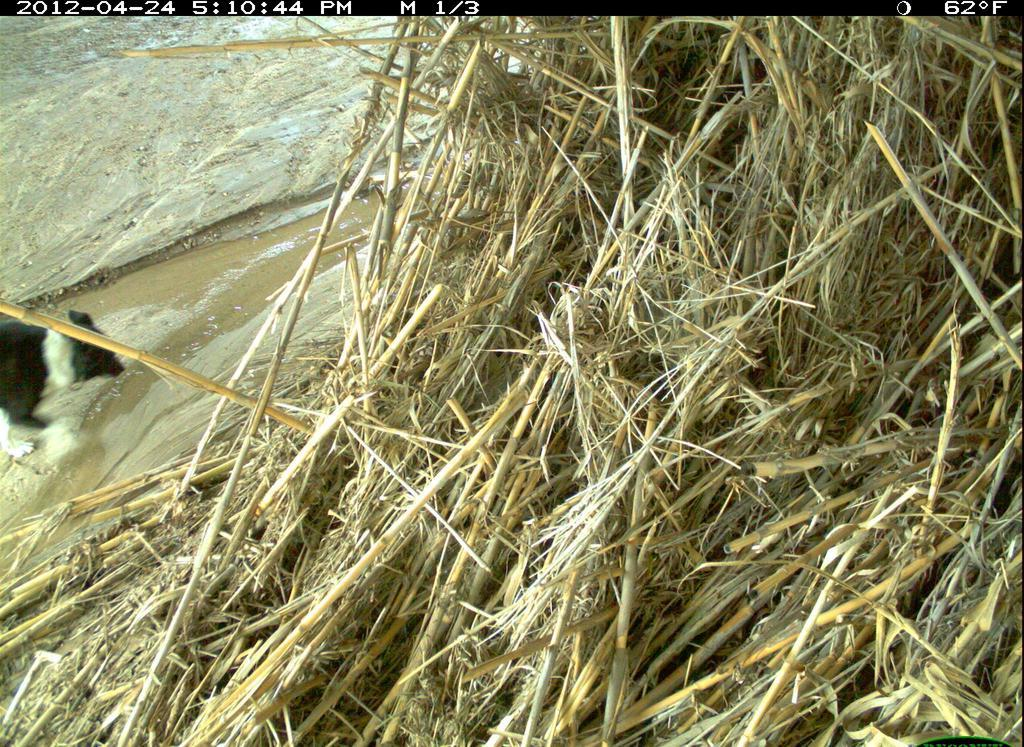dog: (2, 296, 145, 464)
